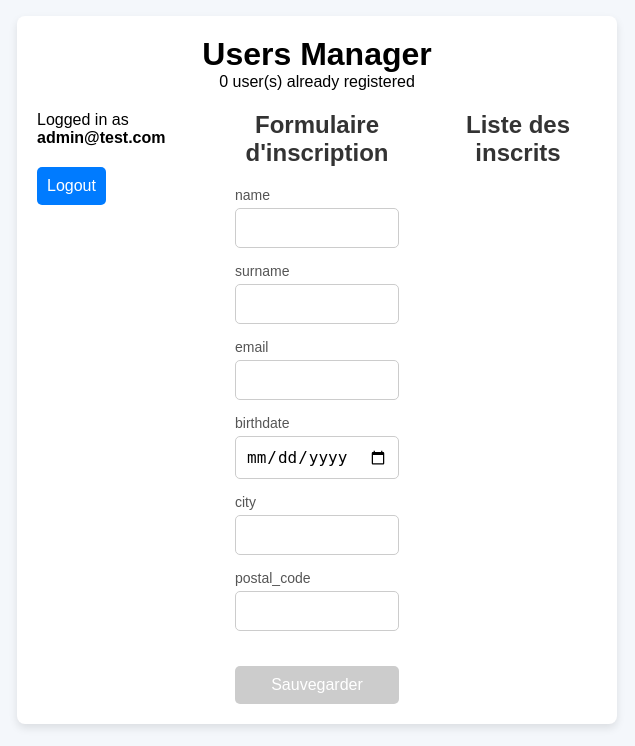
Test case: App Component › should add a user and refreshes the user list from API
The image size is (635, 746).
Type "John" into the field labelled "name". click: (317, 228)
box: [235,208,399,248]
Type "Smith" into the field labelled "surname". click: (317, 304)
box: [235,284,399,324]
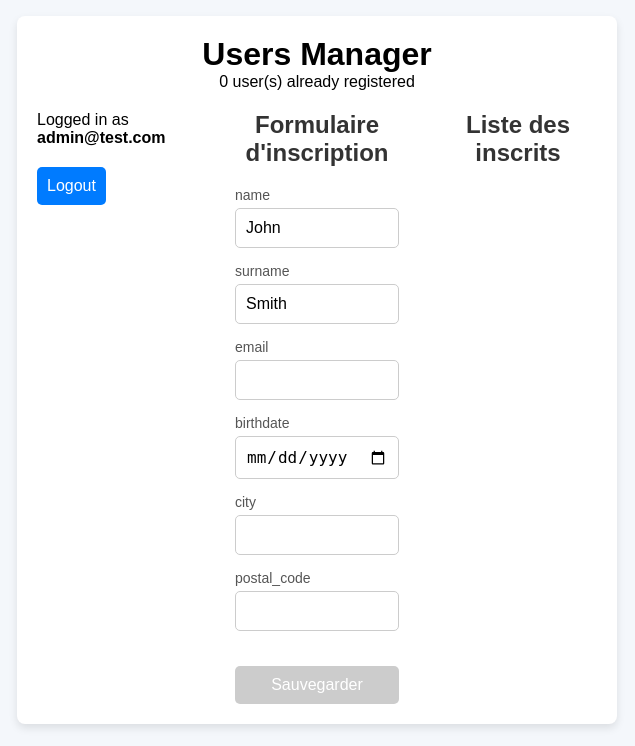
Type "john.smith@example.com" into the field labelled "email". click: (317, 380)
box: [235,360,399,400]
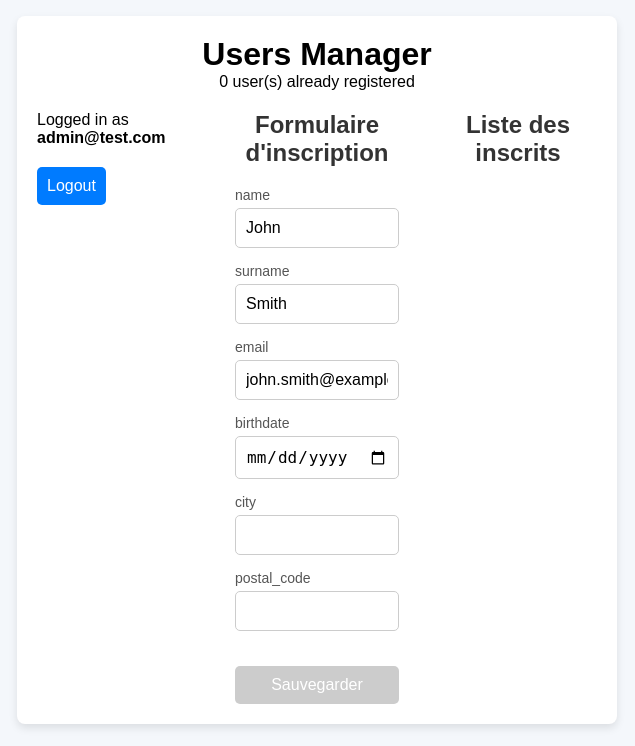
Type "2000-01-01" into the date field labelled "birthdate". click: (317, 458)
box: [235,436,399,479]
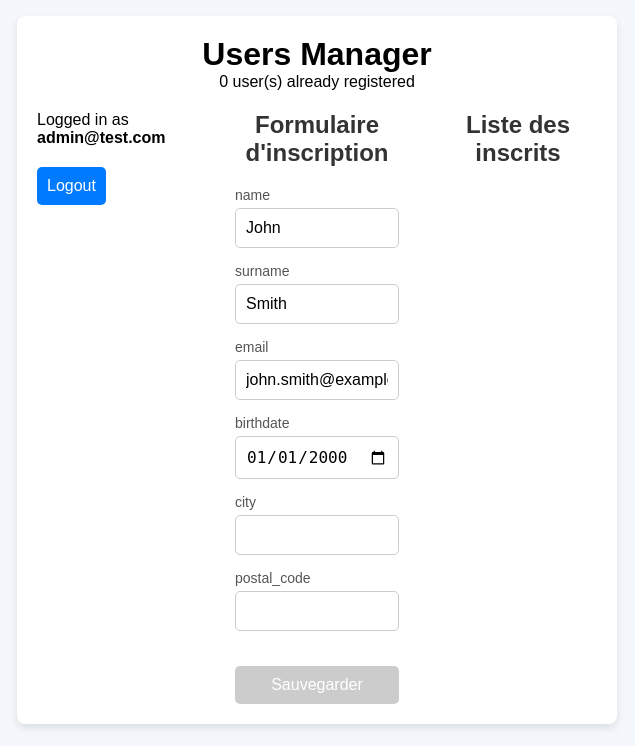
Type "Paris" into the field labelled "city". click: (317, 535)
box: [235,515,399,555]
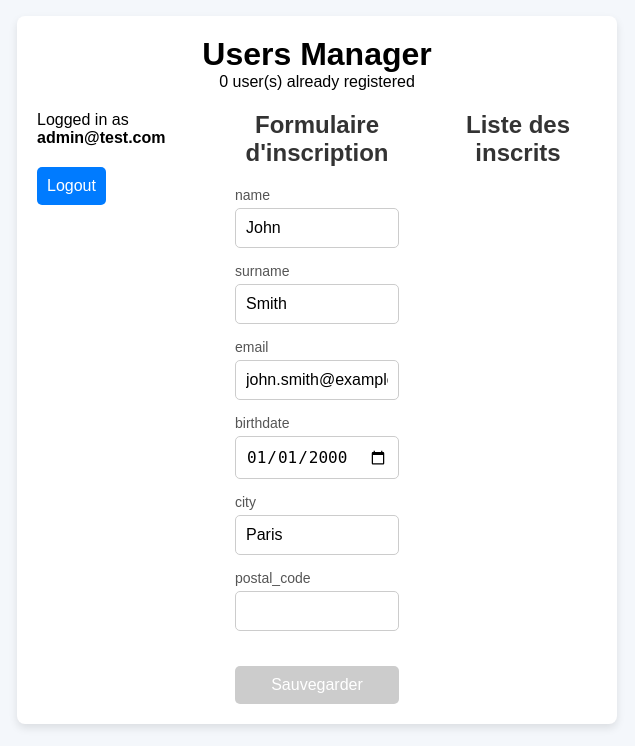
Type "75000" into the field labelled "postal_code". click: (317, 611)
box: [235,591,399,631]
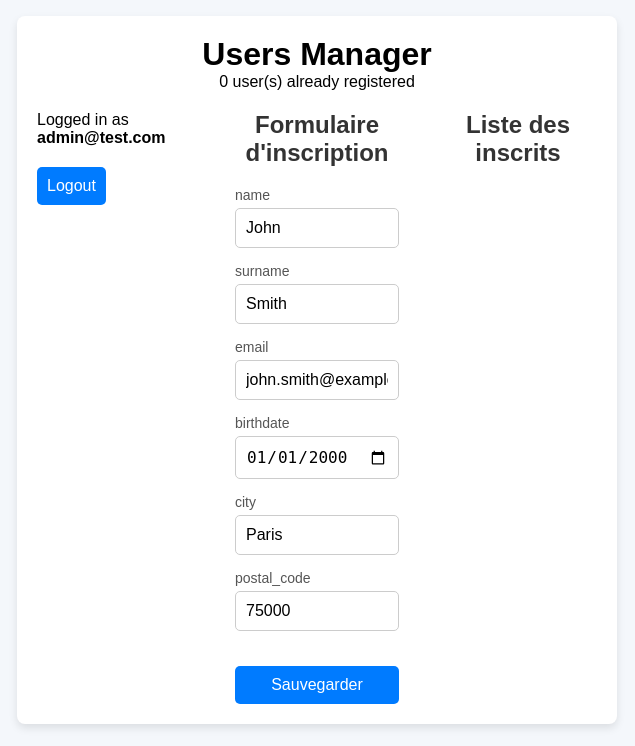
Submit the form from the button "Sauvegarder", box [235,666,399,704]
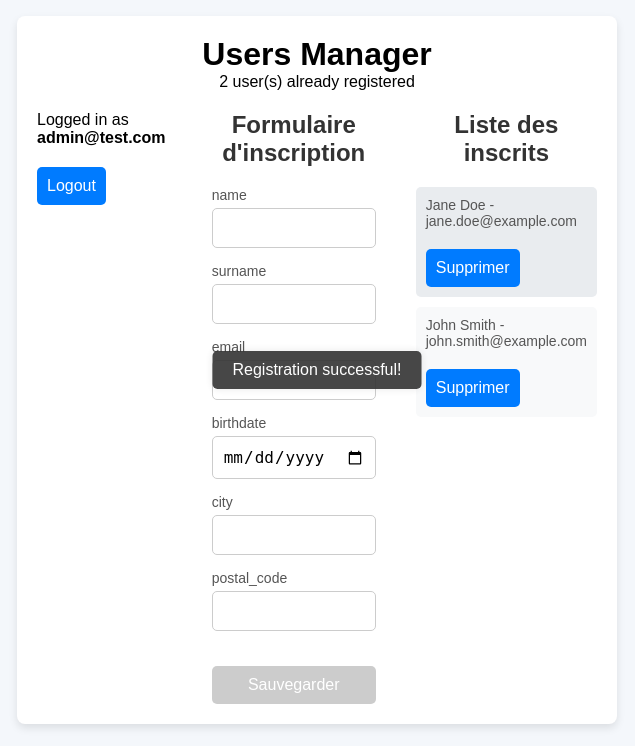
Expected: the list item "John Smith - john.smith@example.com Supprimer" is shown, [416,307,597,417]
Expected: the text "2 user(s) already registered" is shown, [219,73,415,91]
